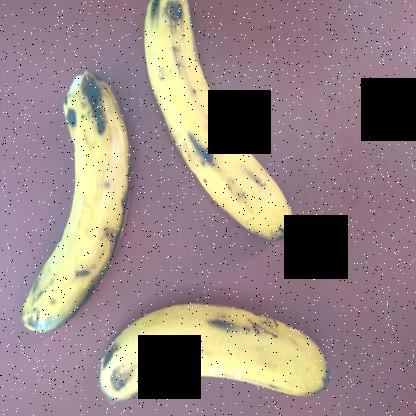ripe: (123, 0, 302, 251), (1, 52, 135, 366), (95, 290, 350, 415)
